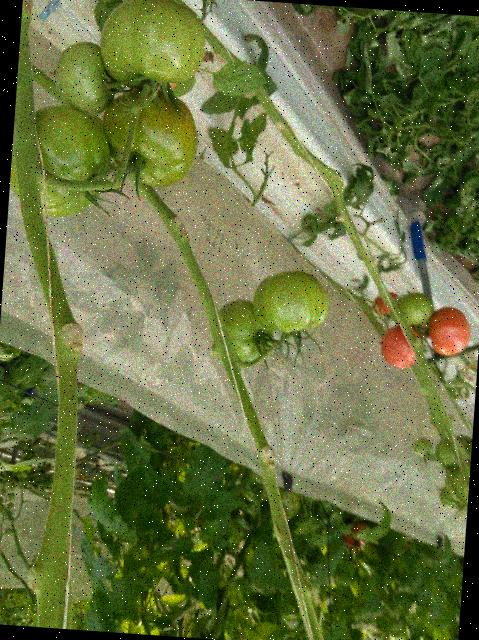b_fully_ripened: (426, 305, 472, 358), (379, 323, 423, 370)
b_green: (7, 102, 114, 219), (96, 86, 199, 189), (96, 0, 208, 94), (251, 267, 330, 335), (52, 39, 119, 116), (211, 298, 277, 368), (389, 291, 434, 328)
